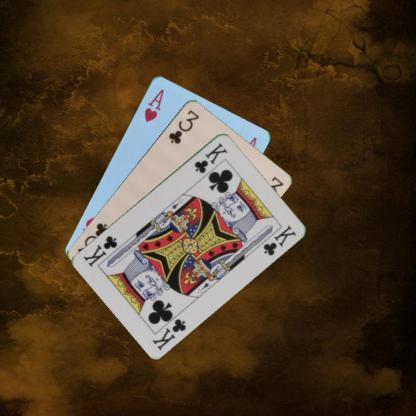3c: (166, 107, 200, 145)
Ah: (142, 86, 165, 123)
Kc: (149, 316, 188, 352), (192, 140, 230, 174)
